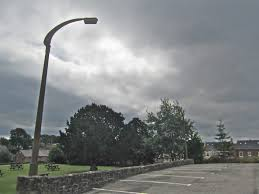light_pole: (27, 26, 51, 180)
